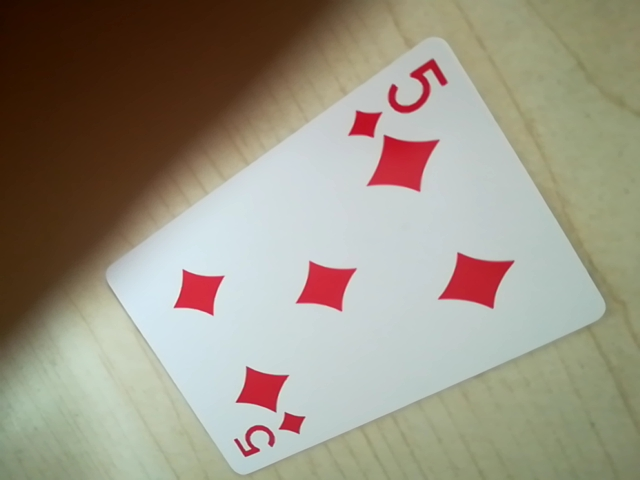fk 5: (341, 51, 447, 144), (228, 407, 308, 468)
